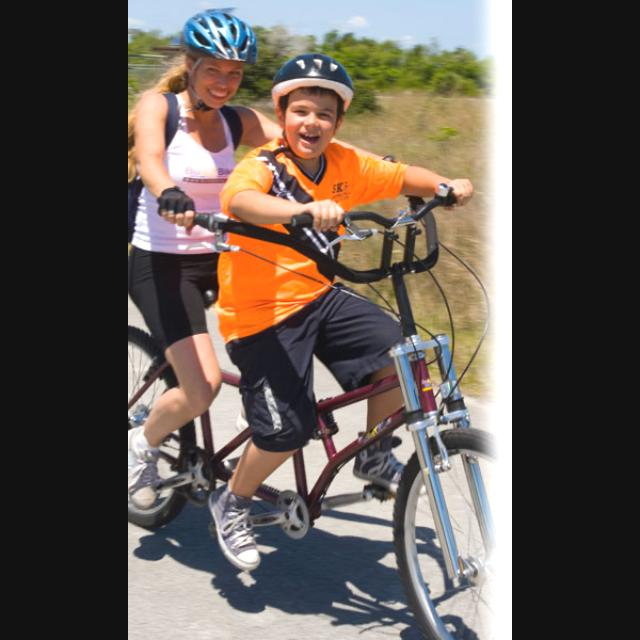With Helmet: (271, 47, 355, 159), (182, 12, 254, 108)
